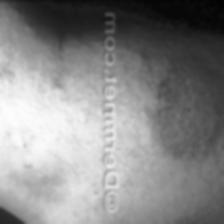Non-Cancerous Skin Condition: (152, 53, 224, 163)
